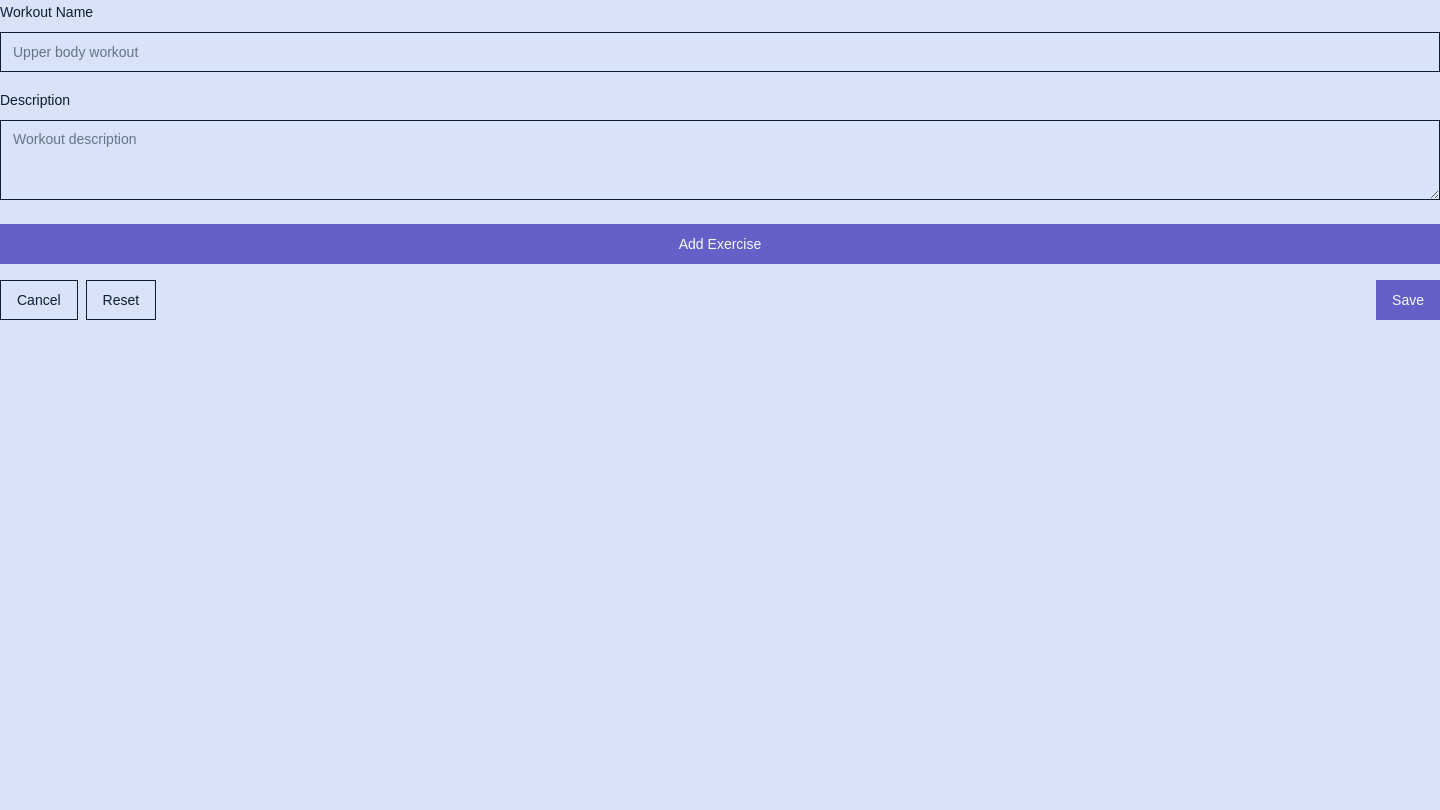
Workout form › selects the exercise
Click the button "Add Exercise".
click(720, 244)  # box [0,224,1439,264]
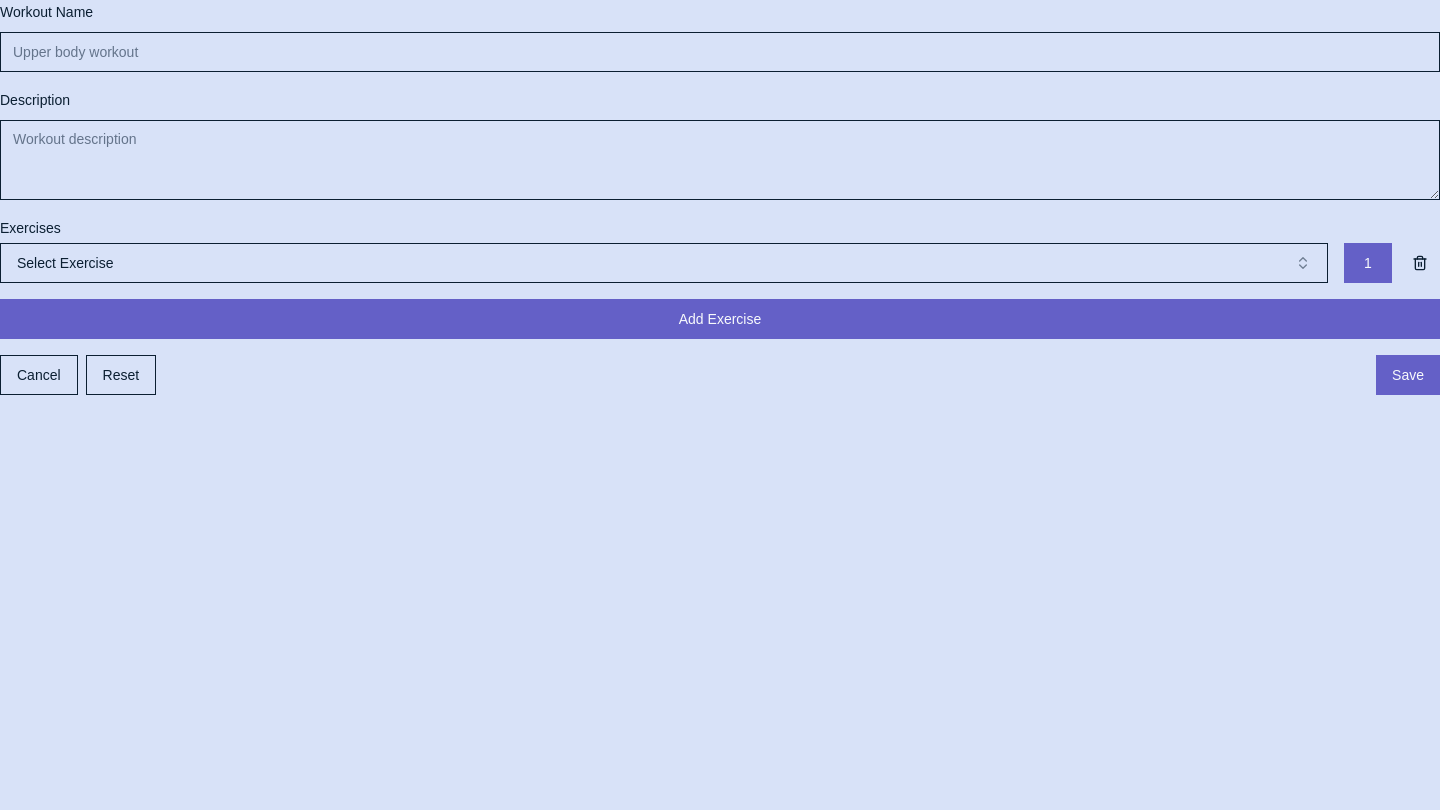
Click the dropdown "Select Exercise".
click(65, 263)  # box [0,243,1328,283]
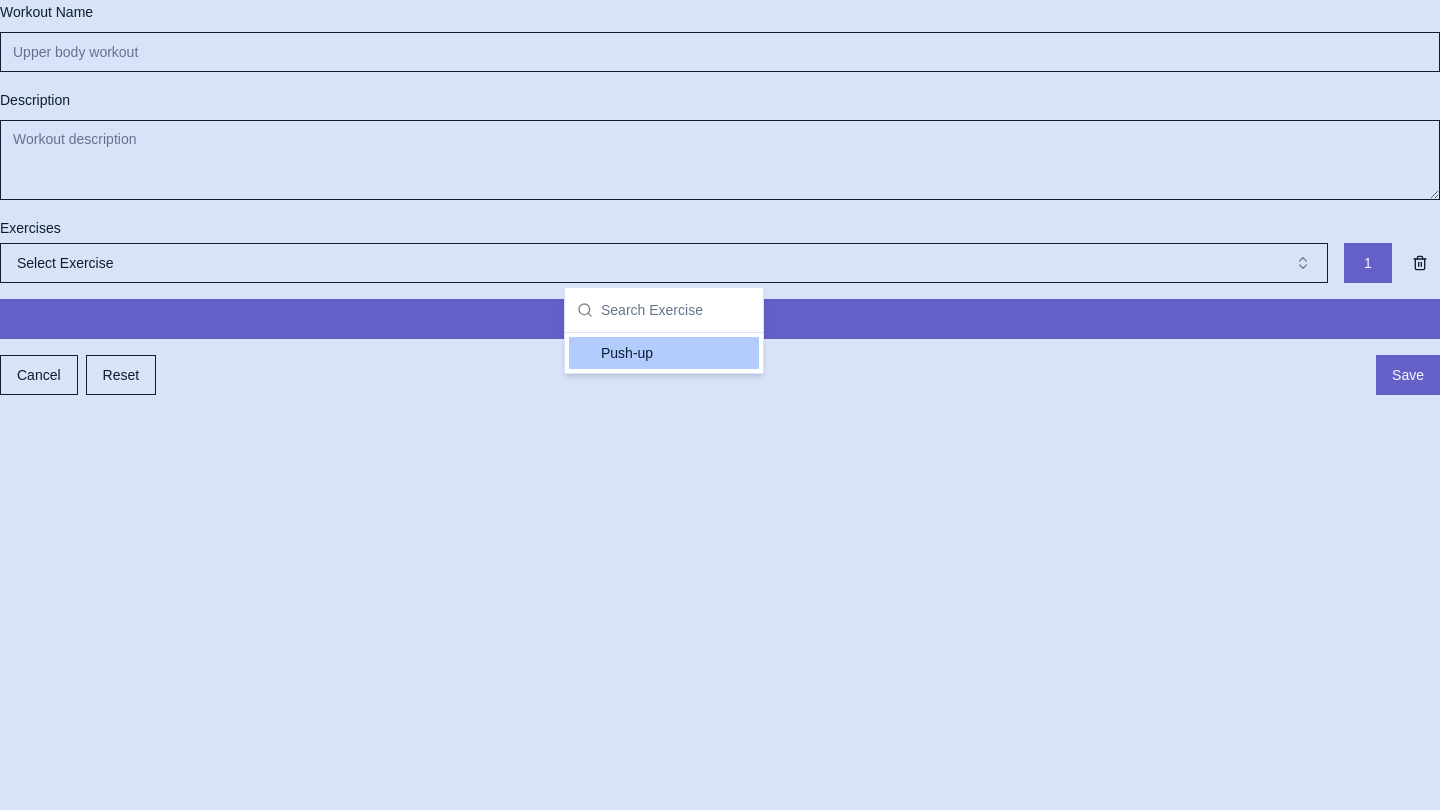
Expected: the option "Push-up" is shown, [569,337,759,369]
